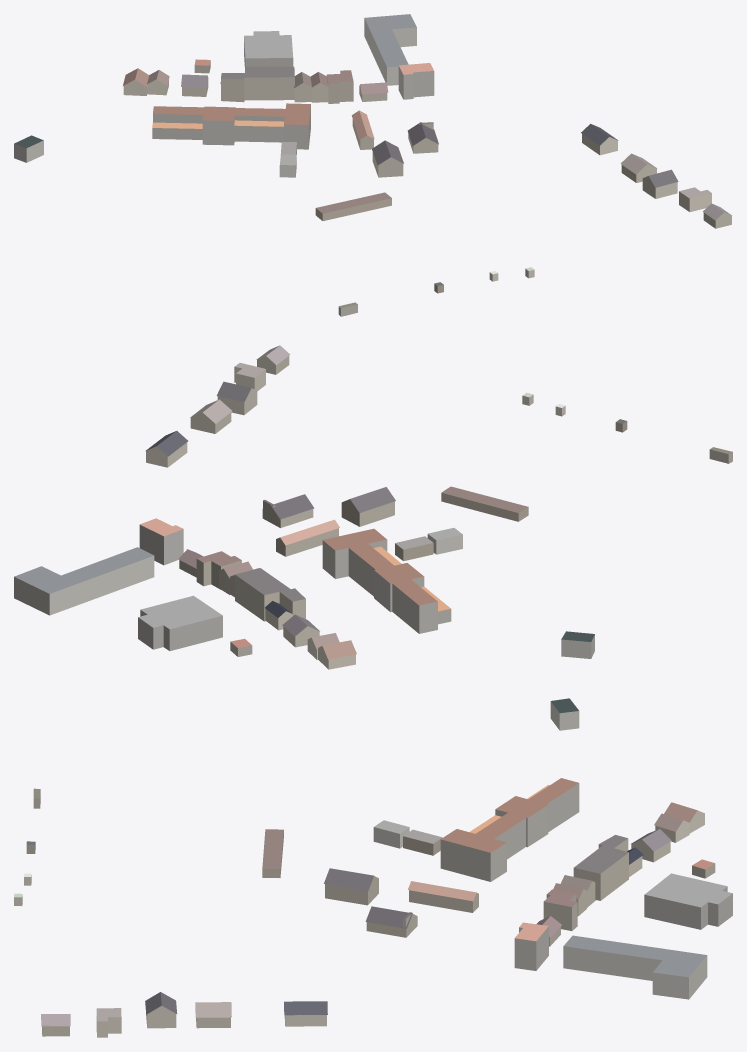
The picture shows the model from 3 angles, top to bottom: view 1: azimuth 30°, elevation 25°; view 2: azimuth 150°, elevation 25°; view 3: azimuth 270°, elevation 25°; orthographic projection. The views are drawn at different scales.
Visible parts, largest first — view 1: tuile; view 2: tuile; view 3: tuile.
Part boxes in pixels (x1,y1,x2,y2): tuile: (14, 14, 731, 316); tuile: (14, 345, 732, 669); tuile: (14, 698, 732, 1037).
Bounding box in the file's own units: 247 × 19.2 × 257.
